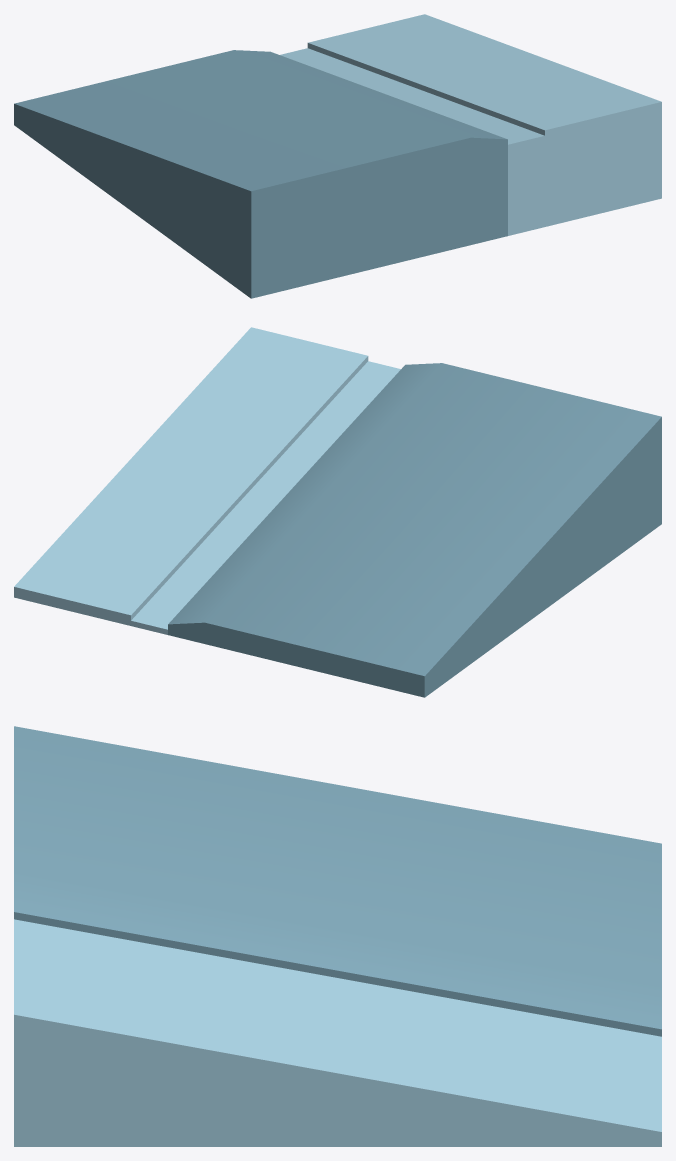
Rendered from roadEdgeSlope.dae.
3 renders of one model, top to bottom at view 1: azimuth 30°, elevation 25°; view 2: azimuth 150°, elevation 25°; view 3: azimuth 270°, elevation 25°, orthographic. The views are drawn at different scales.
Visible parts, largest first — view 1: roadEdgeSlope; view 2: roadEdgeSlope; view 3: roadEdgeSlope.
Part boxes in pixels (left/top/right/bottom): roadEdgeSlope: left=14, top=14, right=661, bottom=298; roadEdgeSlope: left=14, top=327, right=661, bottom=697; roadEdgeSlope: left=14, top=726, right=661, bottom=1146.
Size of the model in its own units: 1 by 0.25 by 1.
